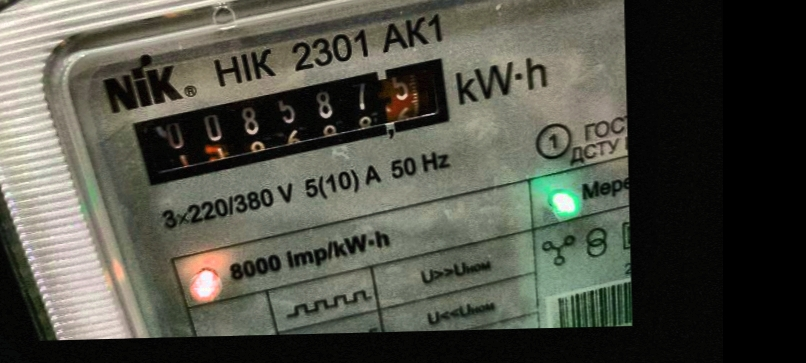0: (200, 108, 227, 142), (162, 117, 189, 149)
5: (275, 93, 299, 124), (389, 68, 412, 100)
6: (395, 103, 413, 120)
7: (350, 78, 373, 113)
8: (312, 86, 336, 120), (239, 103, 264, 135)
screen: (124, 56, 474, 186)
